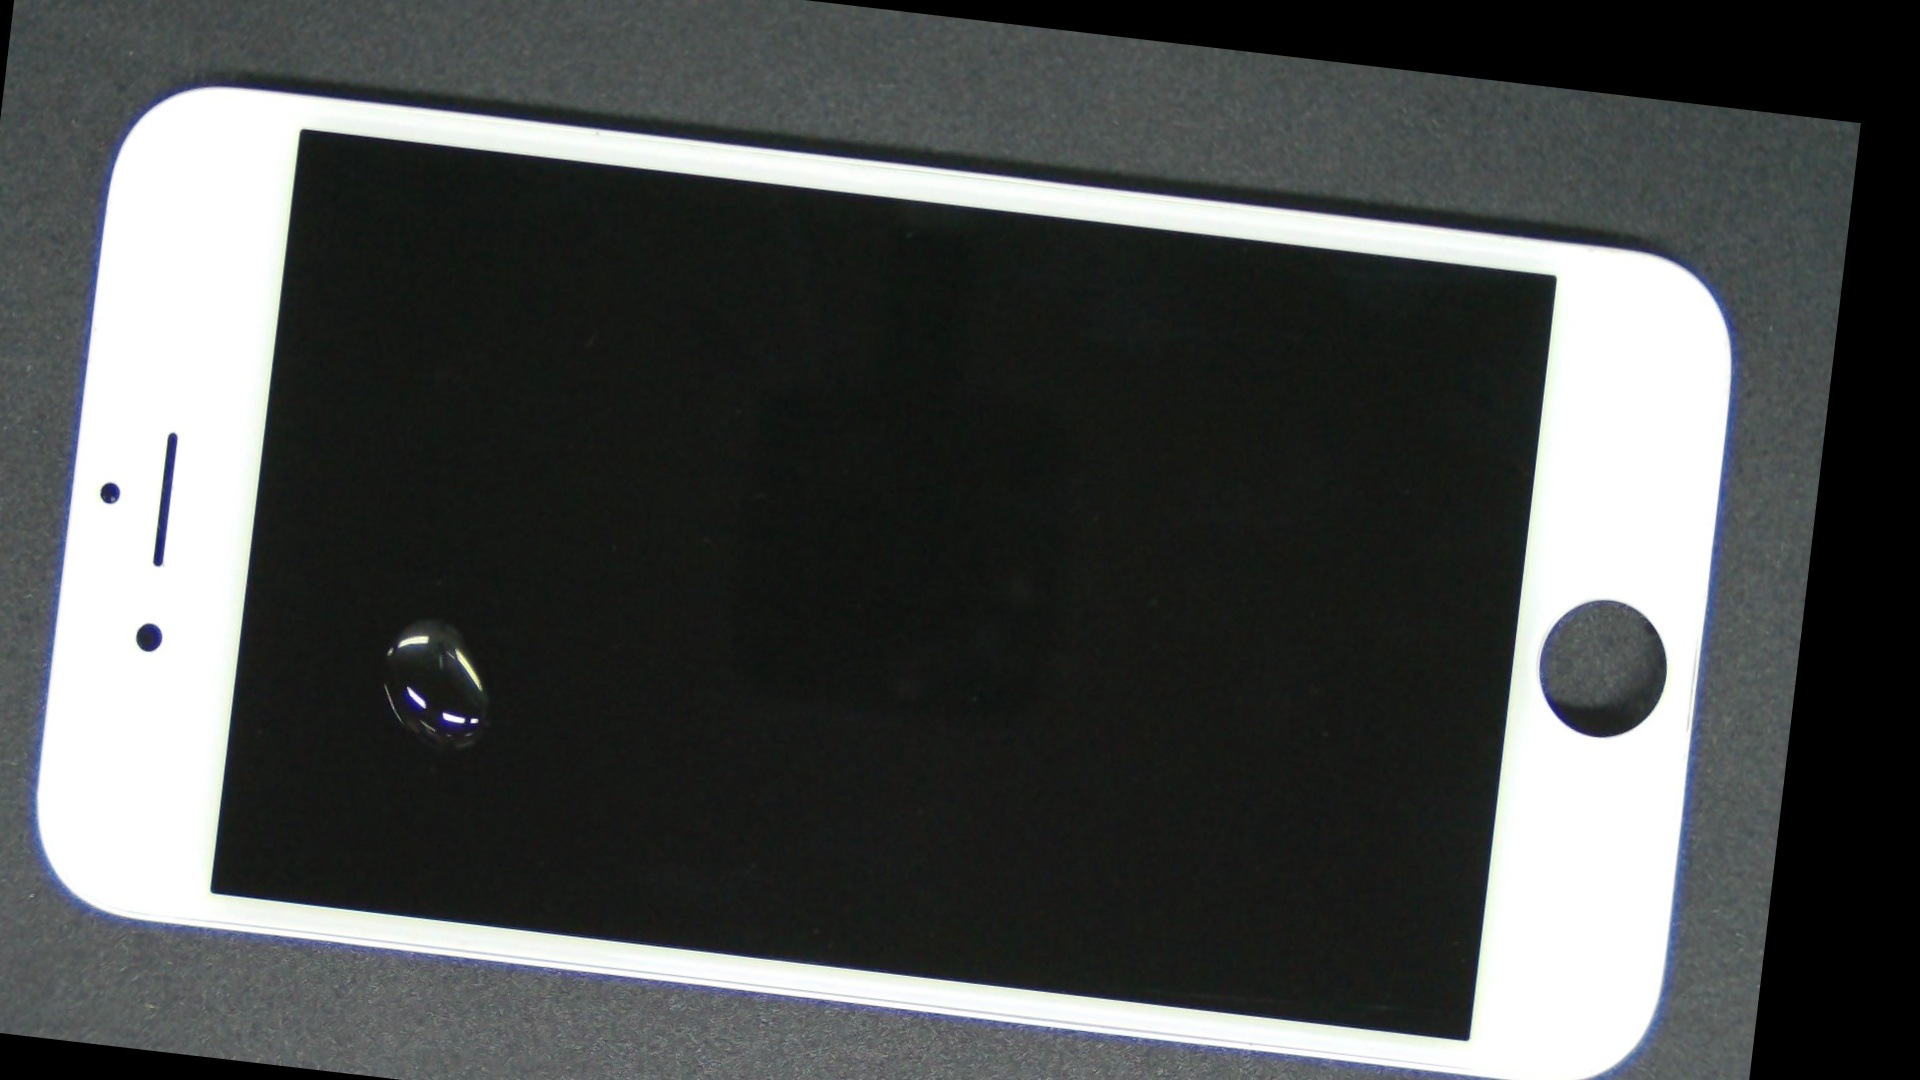oil: (150, 264, 705, 976)
